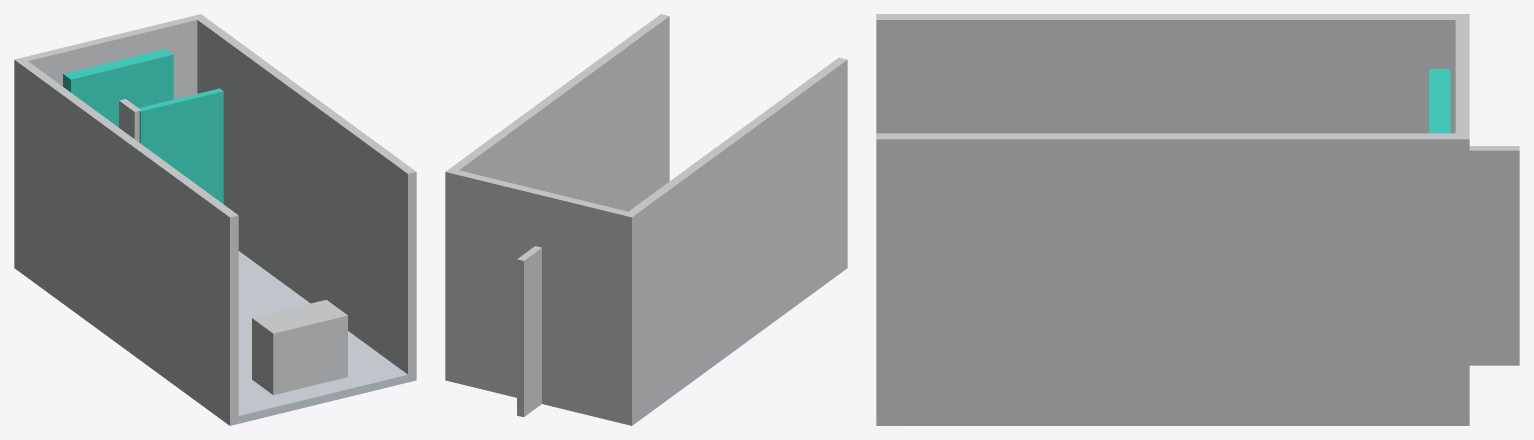
3 views of the same model, side by side, from view 1: azimuth 30°, elevation 25°; view 2: azimuth 150°, elevation 25°; view 3: azimuth 270°, elevation 25° (orthographic). The views are drawn at different scales.
Parts seen in each view (by area): view 1: Exhibition Booth Concept; view 2: Exhibition Booth Concept; view 3: Exhibition Booth Concept.
Part boxes in pixels (left/top/right/bottom): Exhibition Booth Concept: left=14, top=14, right=416, bottom=425; Exhibition Booth Concept: left=445, top=14, right=847, bottom=425; Exhibition Booth Concept: left=876, top=14, right=1519, bottom=425.
Bounding box in the file's own units: 3 × 3.2 × 6.51.
